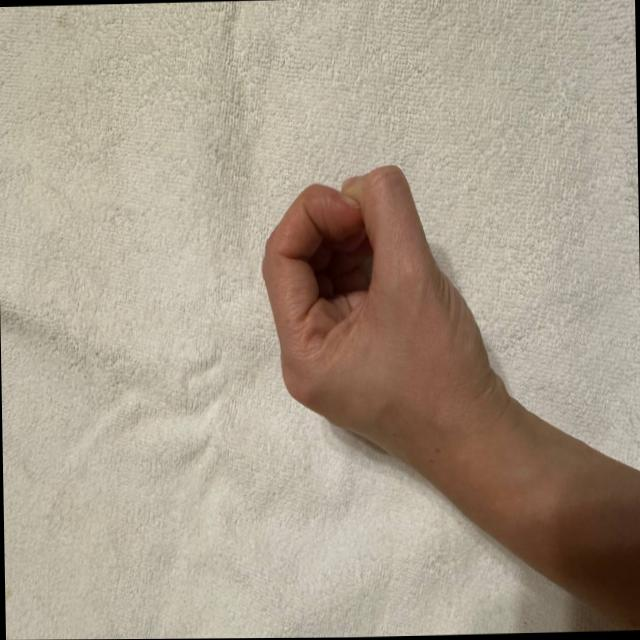e: (224, 112, 486, 487)
